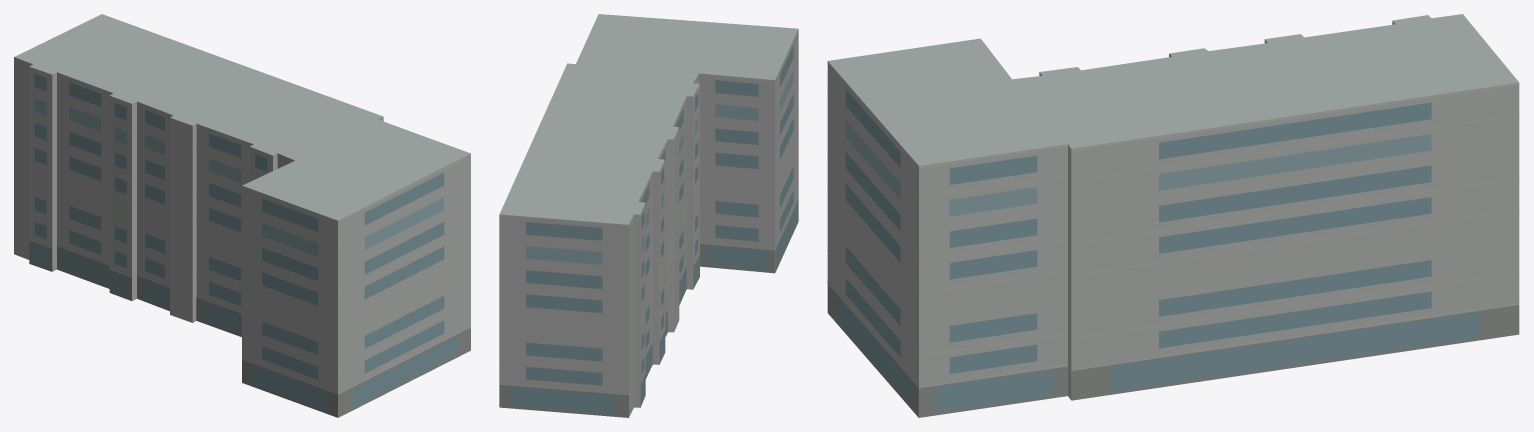
File: survey-upis-32707159.glb
The picture shows the model from 3 angles, left to right: view 1: azimuth 30°, elevation 25°; view 2: azimuth 150°, elevation 25°; view 3: azimuth 270°, elevation 25°; orthographic projection. The views are drawn at different scales.
Visible parts, largest first — view 1: survey-upis-32707159.tmp; view 2: survey-upis-32707159.tmp; view 3: survey-upis-32707159.tmp.
Boxes of the visible parts, left/top/right/bottom form: survey-upis-32707159.tmp: left=14, top=14, right=470, bottom=417; survey-upis-32707159.tmp: left=499, top=14, right=798, bottom=417; survey-upis-32707159.tmp: left=827, top=14, right=1519, bottom=417.
Size of the model in its own units: 29.39 by 22.7 by 56.52.
